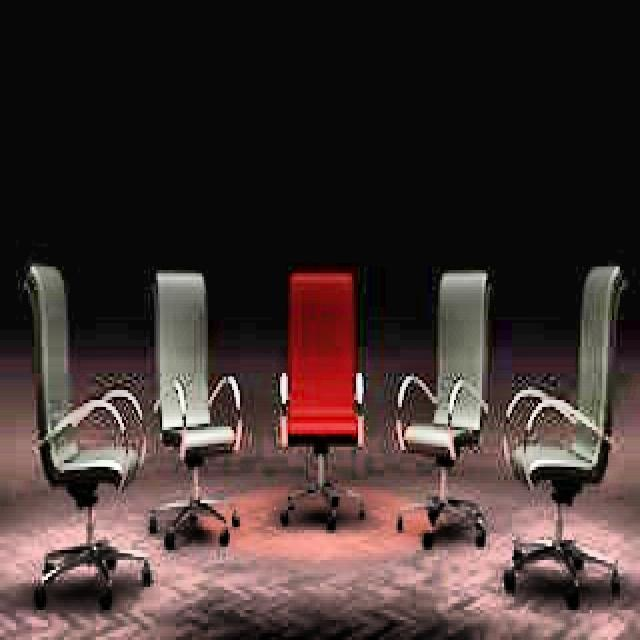cadeira: (21, 263, 153, 611), (502, 257, 625, 614), (391, 264, 498, 550), (148, 263, 245, 548), (274, 263, 369, 532)
